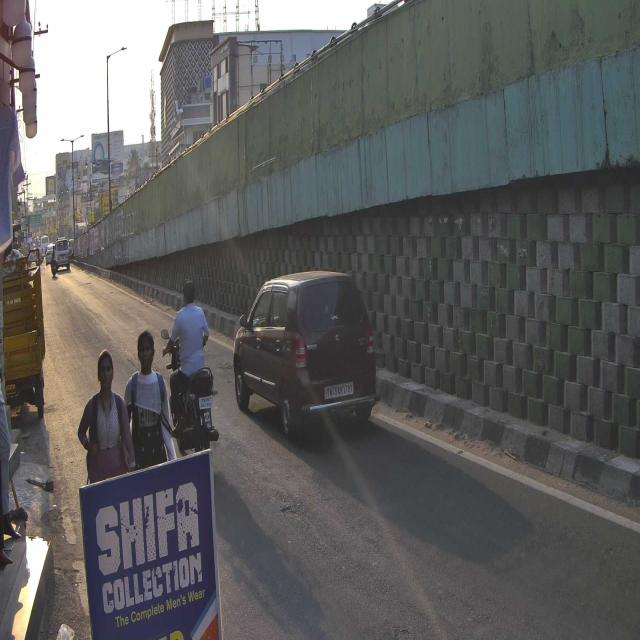single_rider: (160, 283, 220, 456)
